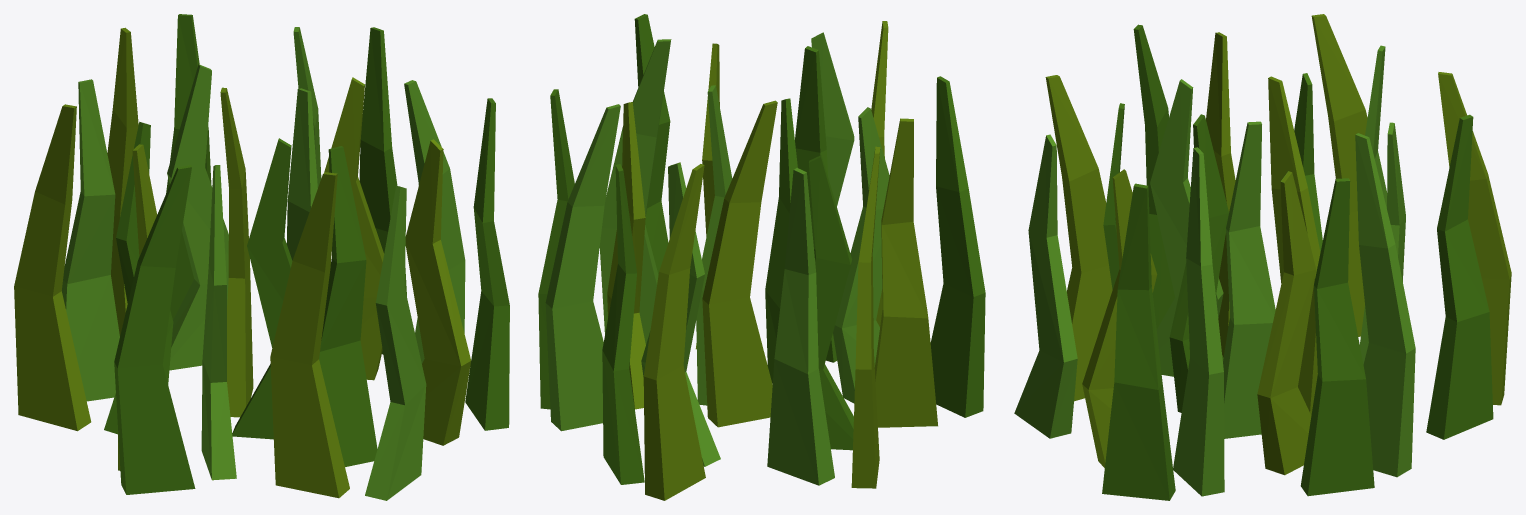
File: grass_large.obj
3 renders of one model, left to right at view 1: azimuth 30°, elevation 25°; view 2: azimuth 150°, elevation 25°; view 3: azimuth 270°, elevation 25°, orthographic. The views are drawn at different scales.
Visible parts, largest first — view 1: Grass_large; view 2: Grass_large; view 3: Grass_large.
Boxes of the visible parts, <box> form: Grass_large: <box>14,14,509,500</box>; Grass_large: <box>538,14,985,500</box>; Grass_large: <box>1014,14,1511,500</box>.
Bounding box in the file's own units: 0.4458 × 0.3635 × 0.5131.
1 material, 1 textured.
